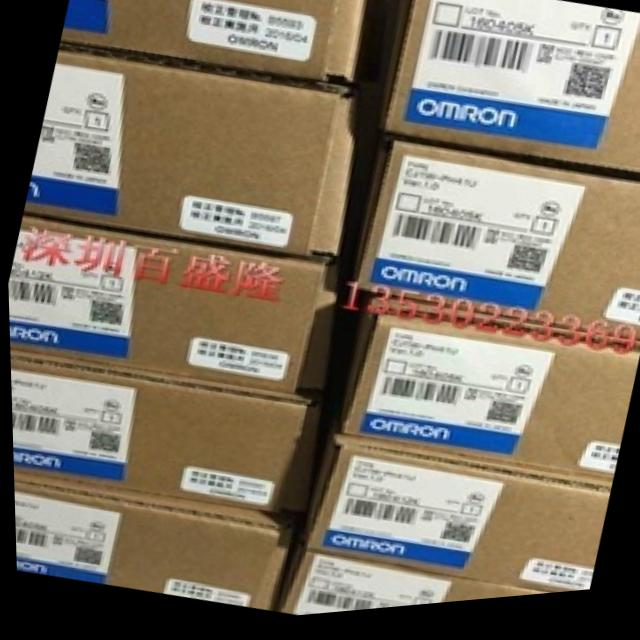box: (21, 53, 362, 271), (348, 141, 640, 353), (7, 220, 345, 400), (330, 303, 636, 497), (8, 360, 324, 526), (294, 438, 605, 603), (381, 0, 640, 186), (11, 477, 302, 613), (58, 0, 393, 114), (265, 554, 541, 620)
